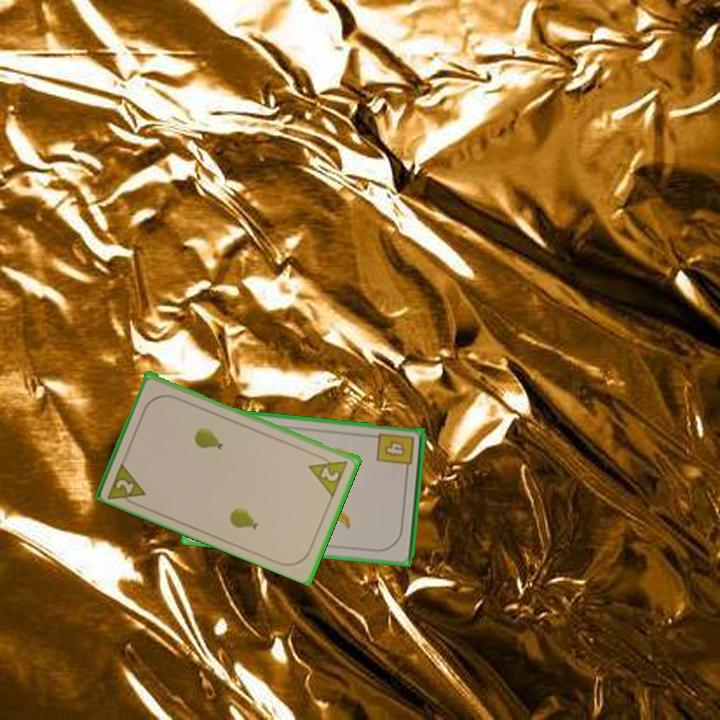2p: (305, 451, 351, 498), (112, 475, 137, 496)
4b: (373, 430, 417, 476)
